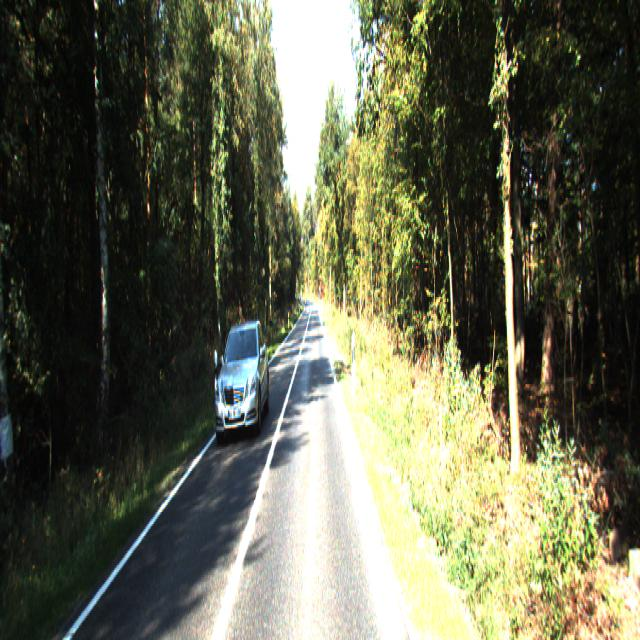Car: (210, 317, 270, 444)
